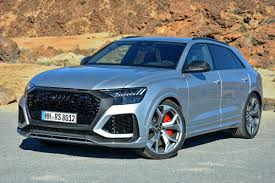car: (11, 30, 268, 162)
